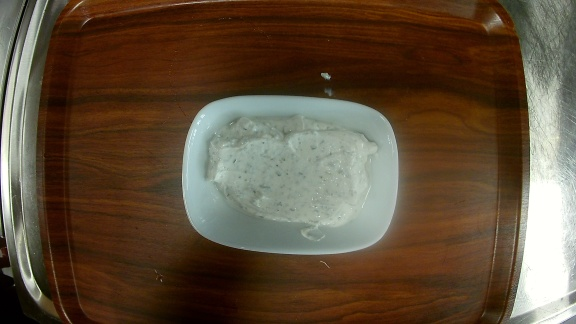haydari: (180, 95, 400, 256)
